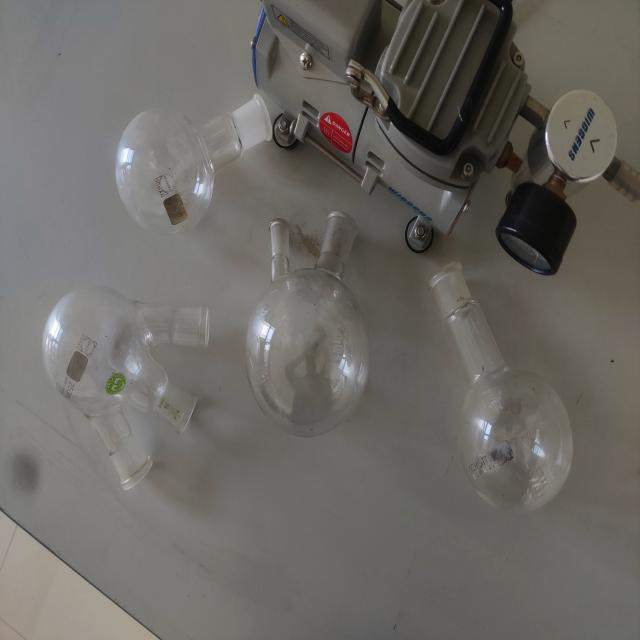Round_Bottom_Flask_Borosilicate_Glass_1_Neck: (416, 224, 592, 538), (101, 43, 284, 253)
Round_Bottom_Flask_Borosilicate_Glass_2_Neck: (234, 182, 387, 458)
Round_Bottom_Flask_Borosilicate_Glass_3_Neck: (16, 255, 225, 518)
